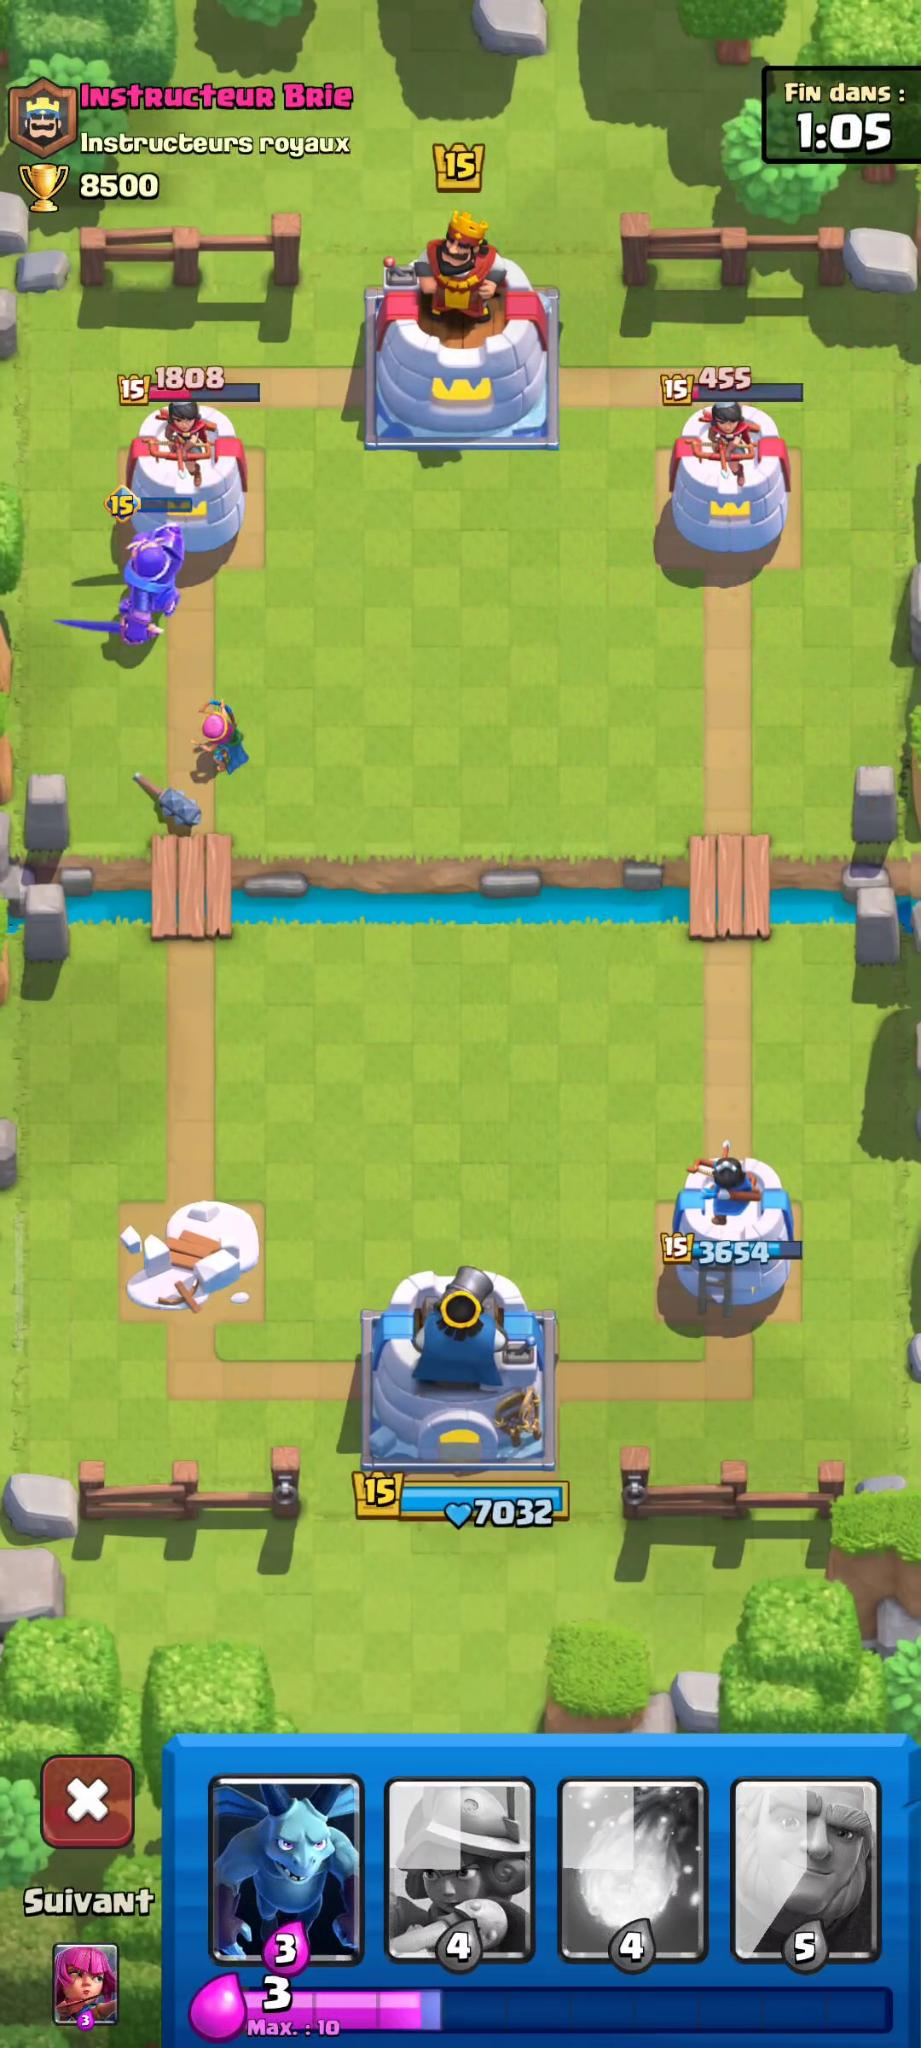archere: (180, 673, 285, 785)
chevalier: (57, 486, 192, 660)
gargouille: (60, 520, 184, 644)
